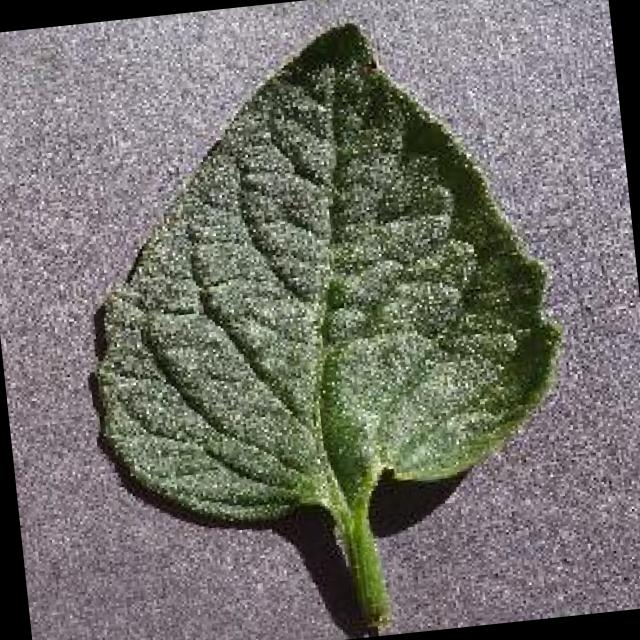Tomato_Healthy: (51, 0, 588, 555)
